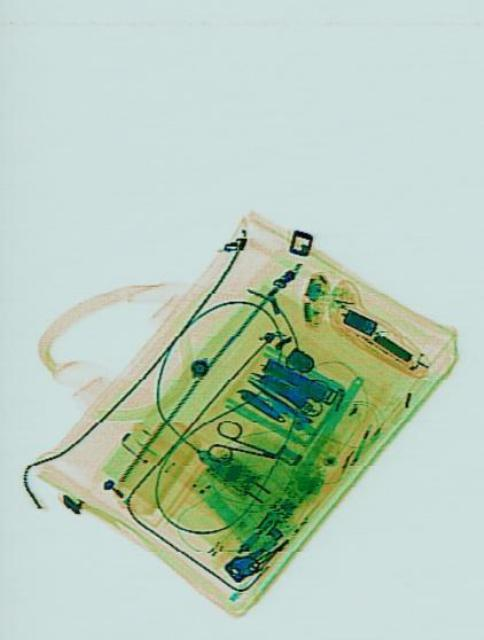Scissors: (202, 414, 282, 480)
